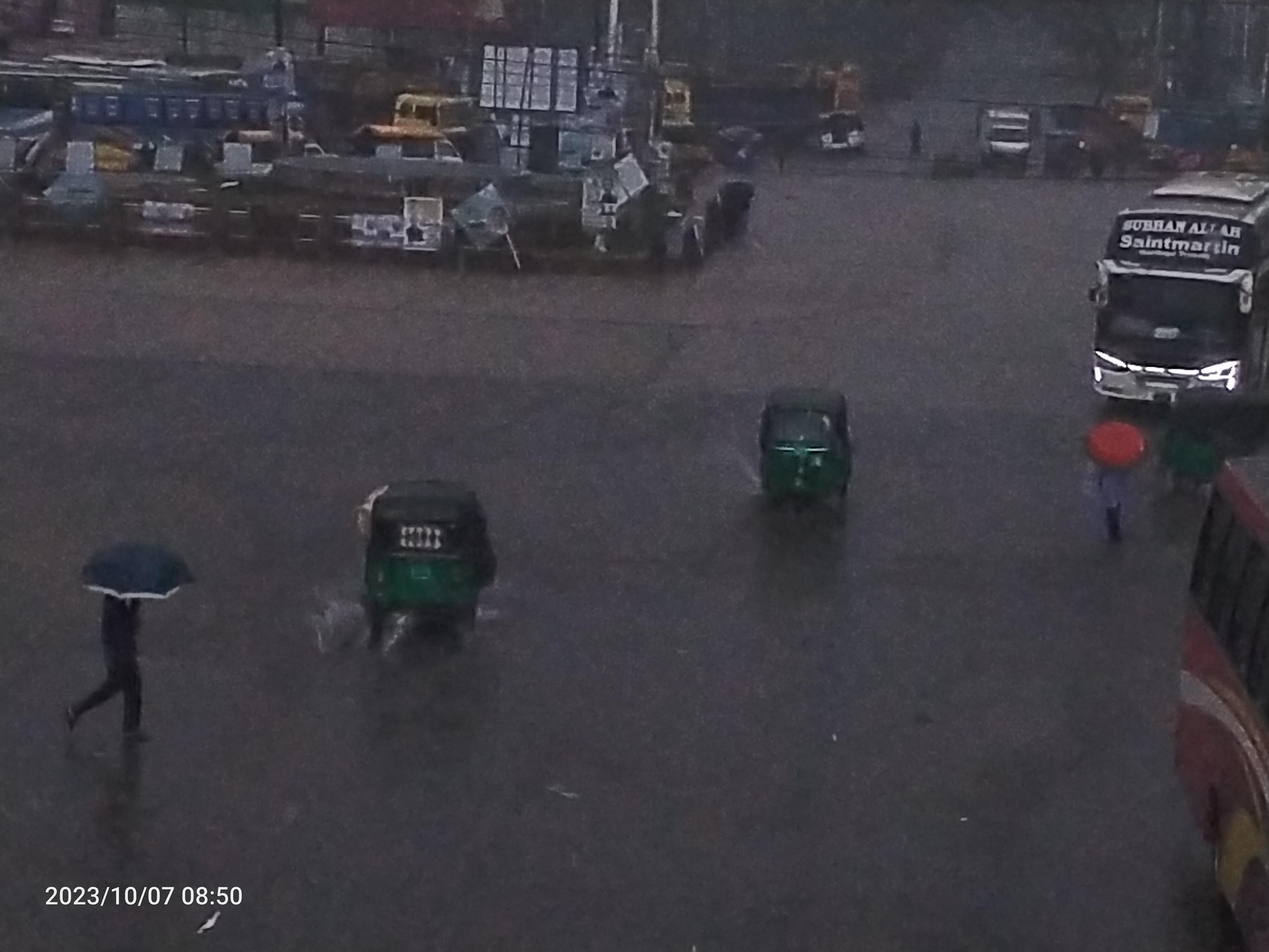Bus: (1115, 436, 1269, 952), (1045, 149, 1269, 424), (45, 66, 319, 225)
Car: (956, 87, 1067, 199), (804, 93, 906, 178)
Truck: (361, 57, 504, 187)
